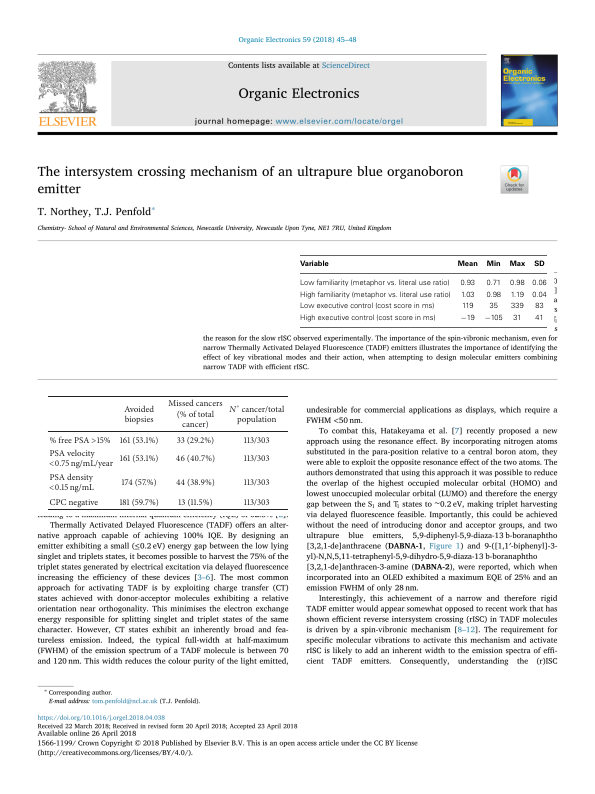borderless: (46, 394, 288, 509), (299, 254, 547, 328)
cell: (167, 399, 224, 430), (48, 448, 114, 471), (228, 400, 285, 425), (298, 291, 451, 300), (298, 279, 450, 288), (298, 314, 436, 323), (298, 302, 435, 311), (48, 472, 95, 495), (48, 431, 112, 447), (123, 404, 155, 425), (48, 497, 99, 508), (118, 497, 160, 508), (175, 453, 216, 464), (175, 477, 216, 488), (119, 453, 159, 464), (121, 477, 158, 488), (177, 497, 214, 508), (119, 435, 159, 445), (176, 435, 215, 445), (243, 453, 271, 464), (243, 477, 271, 488), (243, 497, 271, 508), (243, 435, 271, 445), (298, 260, 329, 268), (483, 314, 503, 323), (456, 260, 478, 268), (508, 279, 525, 288), (459, 279, 475, 288), (485, 279, 501, 288), (531, 279, 547, 288), (459, 291, 475, 300), (485, 291, 501, 300), (531, 291, 547, 300), (459, 314, 475, 323), (508, 260, 525, 268), (509, 291, 524, 300), (509, 302, 524, 311), (485, 260, 501, 268), (460, 302, 474, 311), (533, 260, 545, 268), (488, 302, 498, 311), (534, 302, 544, 311), (512, 314, 522, 323), (534, 314, 544, 323)
